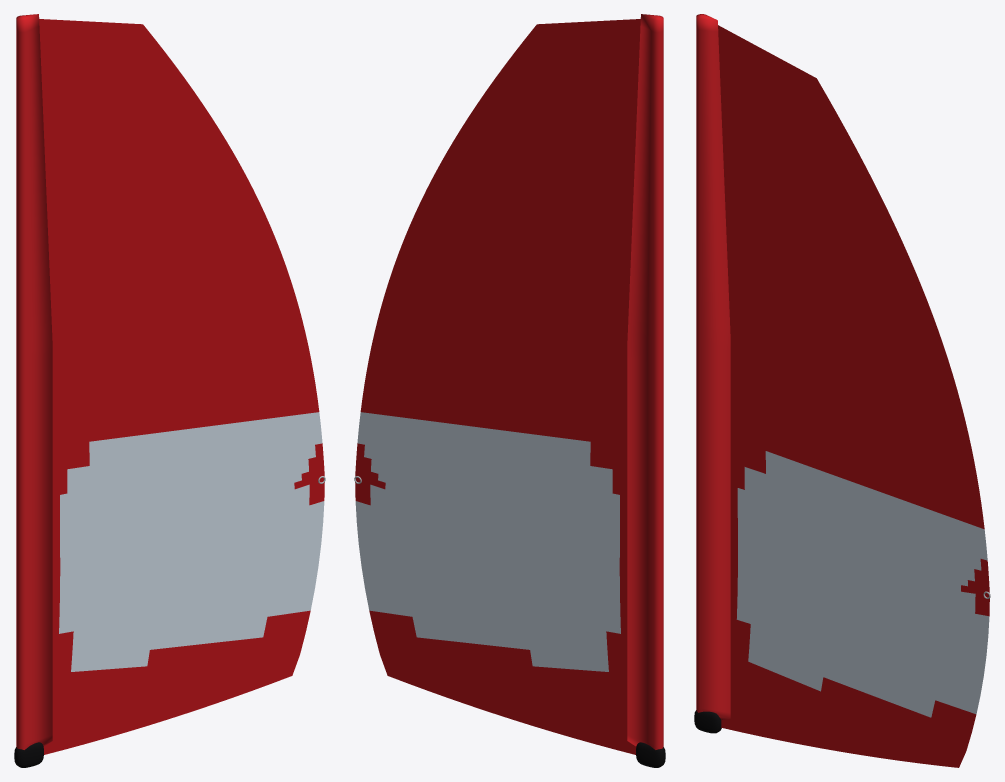
The model's file is sail.glb.
The picture shows the model from 3 angles, left to right: view 1: azimuth 30°, elevation 25°; view 2: azimuth 150°, elevation 25°; view 3: azimuth 330°, elevation 25°; orthographic projection. The views are drawn at different scales.
Parts seen in each view (by area): view 1: SailCloth, TackFairing; view 2: SailCloth, TackFairing; view 3: SailCloth, TackFairing.
Part boxes in pixels (box(x1,y1,x2,y2)): SailCloth: box(16, 14, 324, 754); TackFairing: box(14, 742, 43, 767); SailCloth: box(355, 14, 663, 754); TackFairing: box(636, 742, 665, 767); SailCloth: box(696, 14, 989, 767); TackFairing: box(694, 710, 721, 733).
Bounding box in the file's own units: 2.05 × 4.75 × 0.08.
